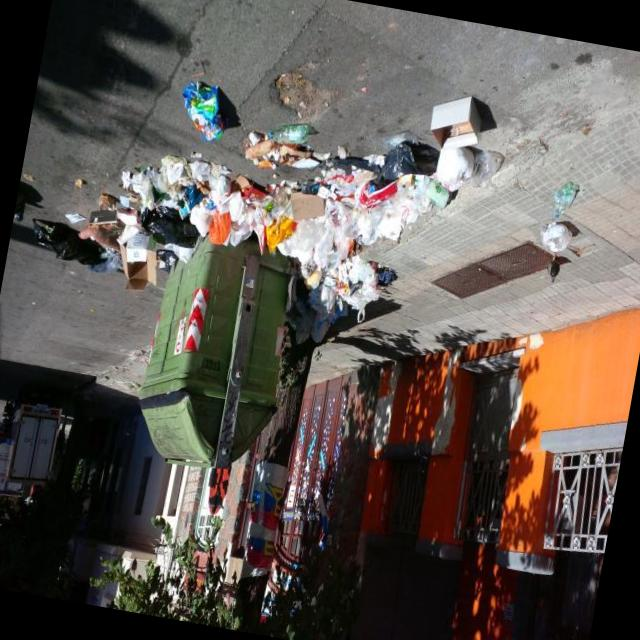high trash: (34, 98, 503, 341)
less trash: (540, 182, 578, 282), (182, 81, 225, 142)
